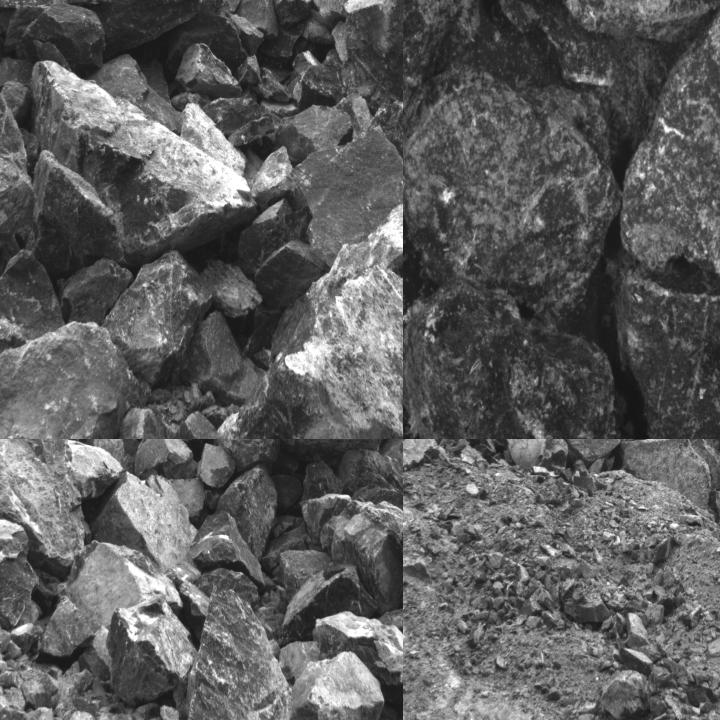stone: (403, 71, 623, 315), (31, 63, 250, 256), (403, 278, 629, 438), (618, 0, 719, 310), (221, 266, 402, 438), (493, 0, 669, 142), (611, 252, 719, 438), (0, 320, 154, 438), (35, 541, 183, 663), (293, 102, 402, 266), (185, 582, 294, 719), (106, 251, 210, 387), (22, 153, 124, 277), (0, 439, 90, 562), (96, 473, 198, 574), (310, 612, 402, 719), (107, 598, 200, 702), (403, 0, 490, 111), (279, 563, 377, 648), (94, 0, 226, 61), (622, 439, 718, 520), (347, 0, 402, 137), (184, 311, 259, 407), (292, 652, 386, 719), (0, 252, 67, 342), (4, 5, 104, 64), (0, 73, 32, 255), (219, 465, 278, 563), (190, 511, 265, 588), (0, 519, 43, 629), (63, 260, 134, 325), (175, 45, 242, 101), (276, 106, 350, 156), (62, 440, 123, 498), (340, 447, 402, 498), (528, 439, 624, 471), (281, 550, 333, 603), (133, 439, 200, 480), (293, 51, 348, 99), (216, 439, 283, 476), (403, 439, 447, 482), (197, 442, 236, 487), (0, 700, 78, 719), (173, 411, 225, 438), (155, 439, 212, 451), (458, 439, 511, 449)
